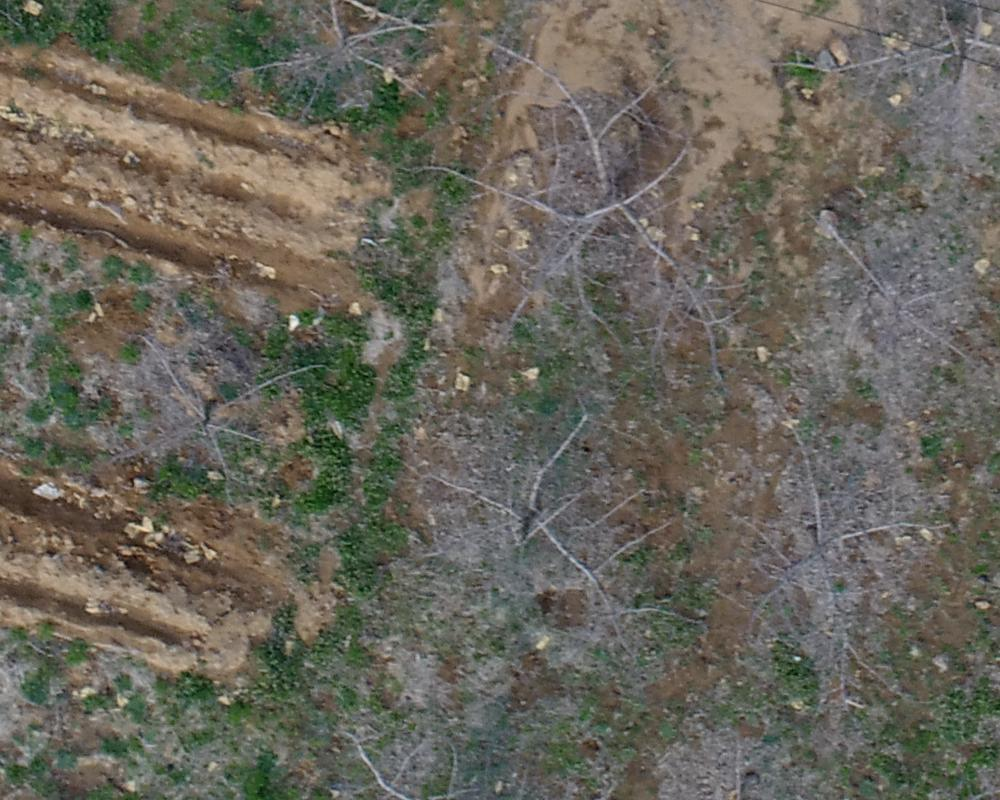apple: (428, 39, 733, 378), (417, 417, 699, 658), (725, 437, 932, 689), (104, 339, 328, 486), (800, 221, 990, 380), (229, 10, 430, 117)
